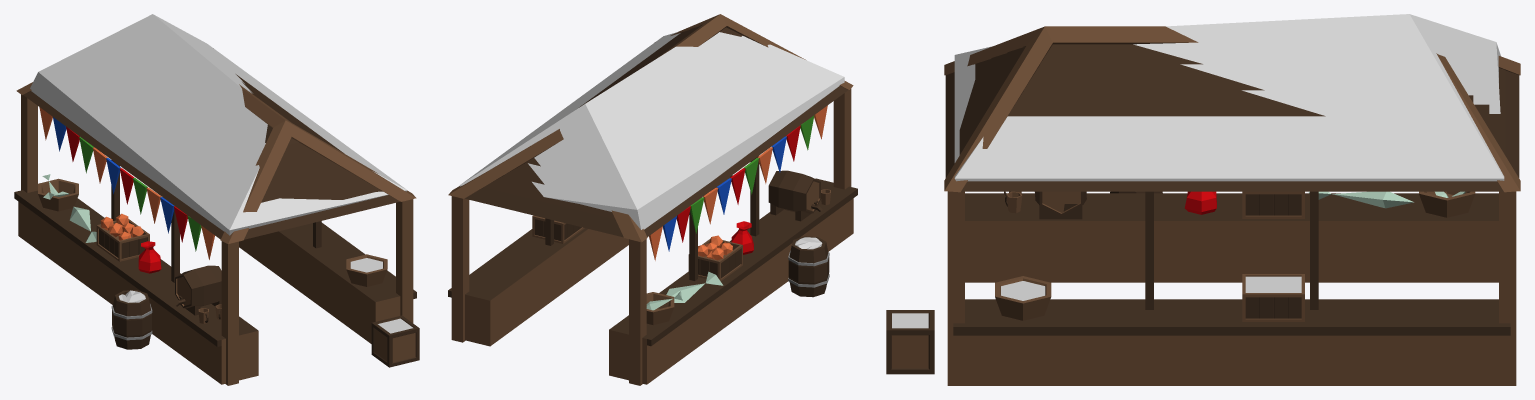
The model's file is market_snow_mat.fbx.
3 views of the same model, side by side, from view 1: azimuth 30°, elevation 25°; view 2: azimuth 150°, elevation 25°; view 3: azimuth 270°, elevation 25° (orthographic). The views are drawn at different scales.
Parts seen in each view (by area): view 1: market_snow_mat; view 2: market_snow_mat; view 3: market_snow_mat.
Boxes of the visible parts, x1,y1,x2,y2 form: market_snow_mat: [14, 14, 419, 385]; market_snow_mat: [448, 14, 857, 385]; market_snow_mat: [886, 14, 1520, 385].
Size of the model in its own units: 310 by 284 by 525.
